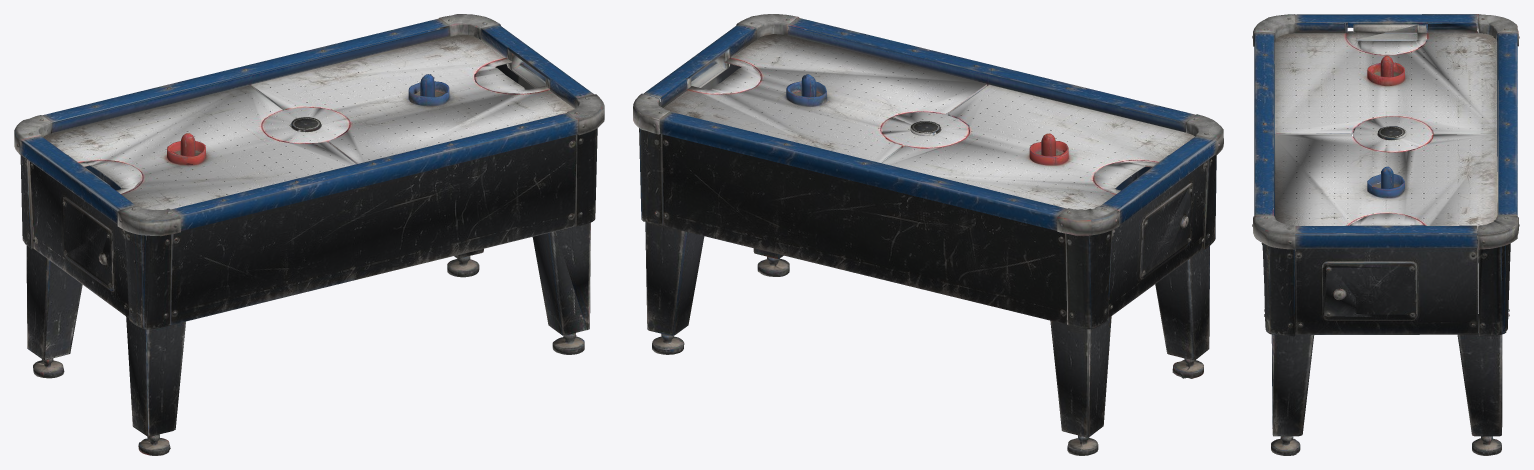
The model's file is skyways-d-ar-airhockey.glb.
The picture shows the model from 3 angles, left to right: view 1: azimuth 30°, elevation 25°; view 2: azimuth 150°, elevation 25°; view 3: azimuth 270°, elevation 25°; orthographic projection. The views are drawn at different scales.
Parts seen in each view (by area): view 1: skyways-d-ar-airhockey; view 2: skyways-d-ar-airhockey; view 3: skyways-d-ar-airhockey.
Boxes of the visible parts, left/top/right/bottom form: skyways-d-ar-airhockey: left=14, top=14, right=604, bottom=455; skyways-d-ar-airhockey: left=633, top=14, right=1223, bottom=455; skyways-d-ar-airhockey: left=1252, top=14, right=1519, bottom=455.
Size of the model in its own units: 2.1 by 1.07 by 1.07.
Materials: 1 (1 with a texture image).
